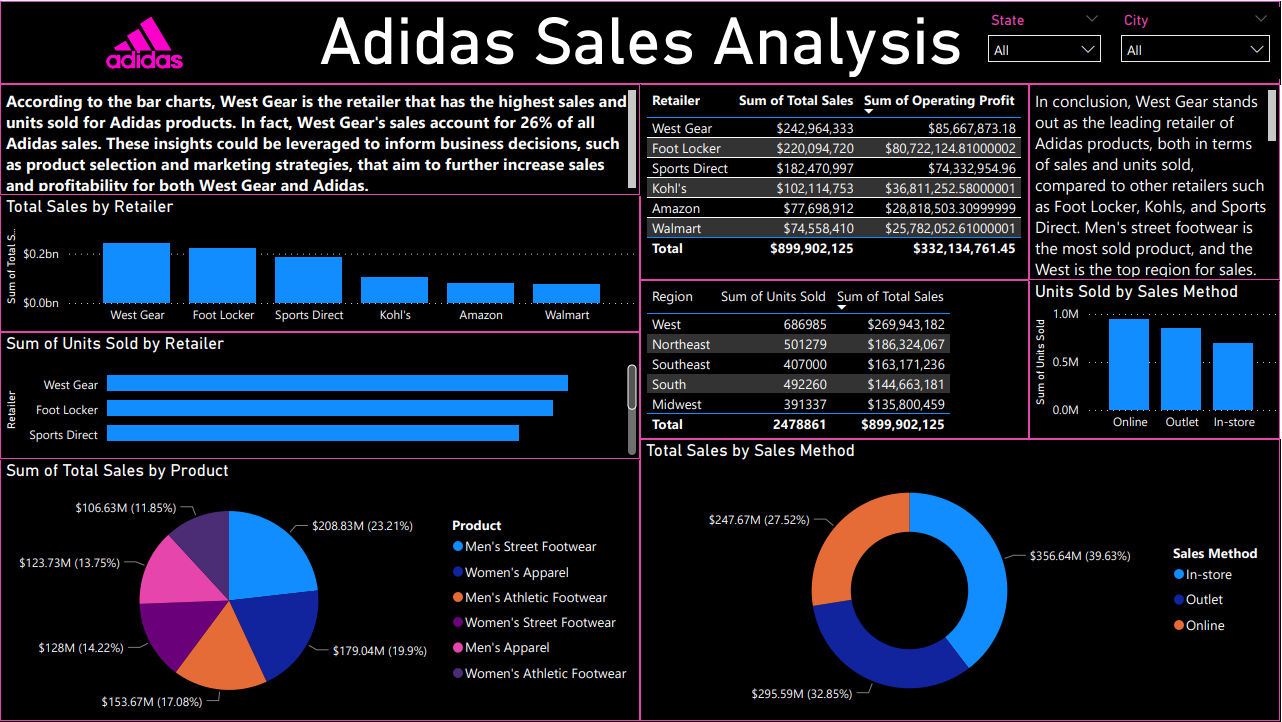

What the dashboard file says about the page in this screenshot:
{"tool":"powerbi","page":{"name":"Page 1","canvas":[1280,720],"ordinal":0},"visuals":[{"type":"textbox","title":"Adidas Sales Analysis","box":[0,0,1280,82.7],"z":0},{"type":"columnChart","title":"Total Sales by Retailer","fields":{"Category":["Data Sales Adidas.Retailer"],"Y":["Sum(Data Sales Adidas.Total Sales)"]},"box":[0,193.6,640,137.1],"z":1},{"type":"slicer","fields":{"Values":["Data Sales Adidas.State"]},"box":[977.5,5.8,133.3,71],"z":2},{"type":"pieChart","fields":{"Category":["Data Sales Adidas.Product"],"Y":["Sum(Data Sales Adidas.Total Sales)"]},"box":[0,458.1,640,261.6],"z":3},{"type":"barChart","fields":{"Category":["Data Sales Adidas.Retailer"],"Y":["Sum(Data Sales Adidas.Units Sold)"]},"box":[0,330.7,640,127.4],"z":4},{"type":"tableEx","fields":{"Values":["Data Sales Adidas.Retailer","Sum(Data Sales Adidas.Total Sales)","Sum(Data Sales Adidas.Operating Profit)"]},"box":[640,82.7,389.1,196.5],"z":5},{"type":"donutChart","title":"Total Sales by Sales Method","fields":{"Category":["Data Sales Adidas.Sales Method"],"Y":["Sum(Data Sales Adidas.Total Sales)"]},"box":[640,437.7,640,282.1],"z":6},{"type":"textbox","title":"Acc","box":[0,82.7,640,110.9],"z":7},{"type":"tableEx","fields":{"Values":["Data Sales Adidas.Region","Sum(Data Sales Adidas.Units Sold)","Sum(Data Sales Adidas.Total Sales)"]},"box":[640,279.1,389.1,158.5],"z":8},{"type":"columnChart","title":" Units Sold by Sales Method","fields":{"Y":["Sum(Data Sales Adidas.Units Sold)"],"Category":["Data Sales Adidas.Sales Method"]},"box":[1029.1,279.1,250.9,158.5],"z":9},{"type":"textbox","box":[1029,83,251,196],"z":10},{"type":"slicer","fields":{"Values":["Data Sales Adidas.City"]},"box":[1110.8,5.8,169.2,71],"z":11},{"type":"image","box":[39.9,4.9,207.2,73.9],"z":12}]}

Visuals, with their boxes in screenshot pixels (x1, y1, x2, y2), scaled from the page's 1280x720 canvas onto the 1282x722 screenshot:
"Adidas Sales Analysis" textbox: l=0, t=0, r=1281, b=83
"Total Sales by Retailer" columnChart: l=0, t=194, r=641, b=332
slicer - Data Sales Adidas.State: l=979, t=6, r=1113, b=77
pieChart - Data Sales Adidas.Product x Sum(Data Sales Adidas.Total Sales): l=0, t=459, r=641, b=721
barChart - Data Sales Adidas.Retailer x Sum(Data Sales Adidas.Units Sold): l=0, t=332, r=641, b=459
tableEx - Data Sales Adidas.Retailer x Sum(Data Sales Adidas.Total Sales): l=641, t=83, r=1031, b=280
"Total Sales by Sales Method" donutChart: l=641, t=439, r=1281, b=721
"Acc" textbox: l=0, t=83, r=641, b=194
tableEx - Data Sales Adidas.Region x Sum(Data Sales Adidas.Units Sold): l=641, t=280, r=1031, b=439
" Units Sold by Sales Method" columnChart: l=1031, t=280, r=1281, b=439
textbox: l=1031, t=83, r=1281, b=280
slicer - Data Sales Adidas.City: l=1113, t=6, r=1281, b=77
image: l=40, t=5, r=247, b=79
